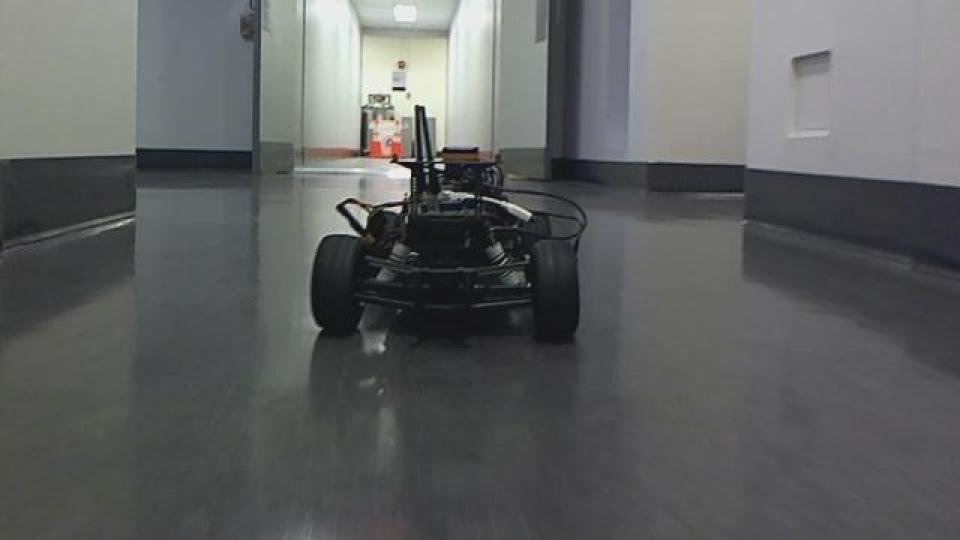car: (306, 102, 590, 346)
